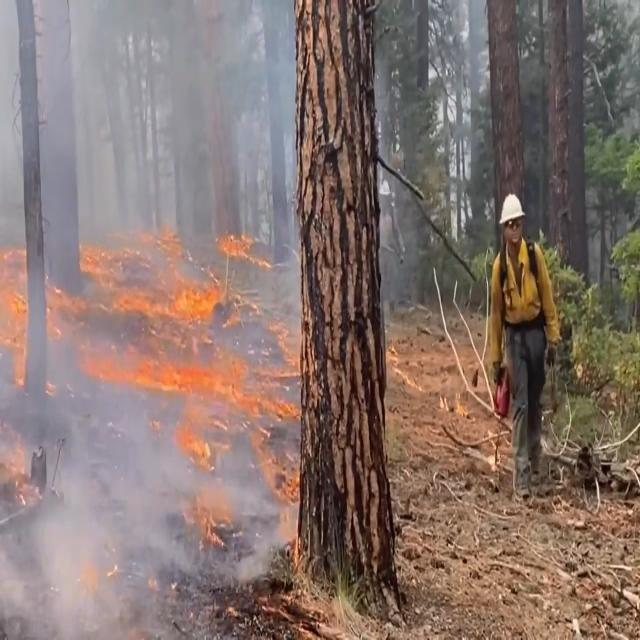Fire: (2, 212, 297, 550)
